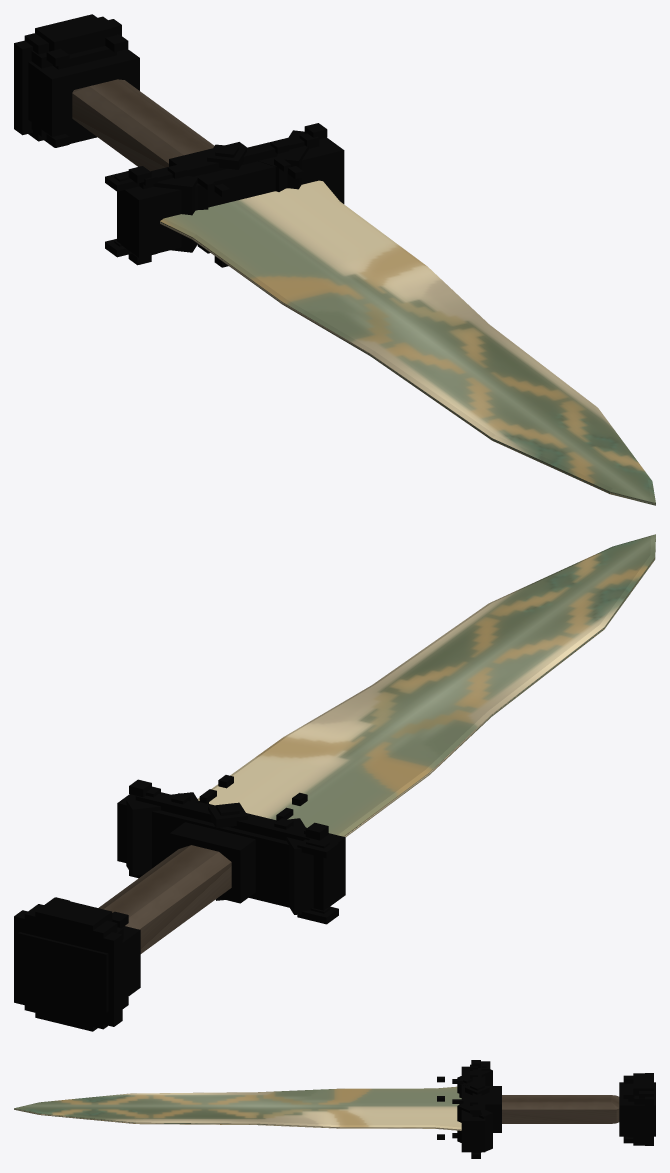
Rendered from yue_bronze_jian.obj.
3 views of the same model, one above another, from view 1: azimuth 30°, elevation 25°; view 2: azimuth 150°, elevation 25°; view 3: azimuth 270°, elevation 25° (orthographic). The views are drawn at different scales.
Visible parts, largest first — view 1: yue_bronze_jian; view 2: yue_bronze_jian; view 3: yue_bronze_jian.
Boxes of the visible parts, x1=… form: yue_bronze_jian: x1=14, y1=14, x2=655, y2=505; yue_bronze_jian: x1=14, y1=534, x2=655, y2=1031; yue_bronze_jian: x1=14, y1=1060, x2=655, y2=1158.
Size of the model in its own units: 0.2269 by 0.1075 by 1.09.
